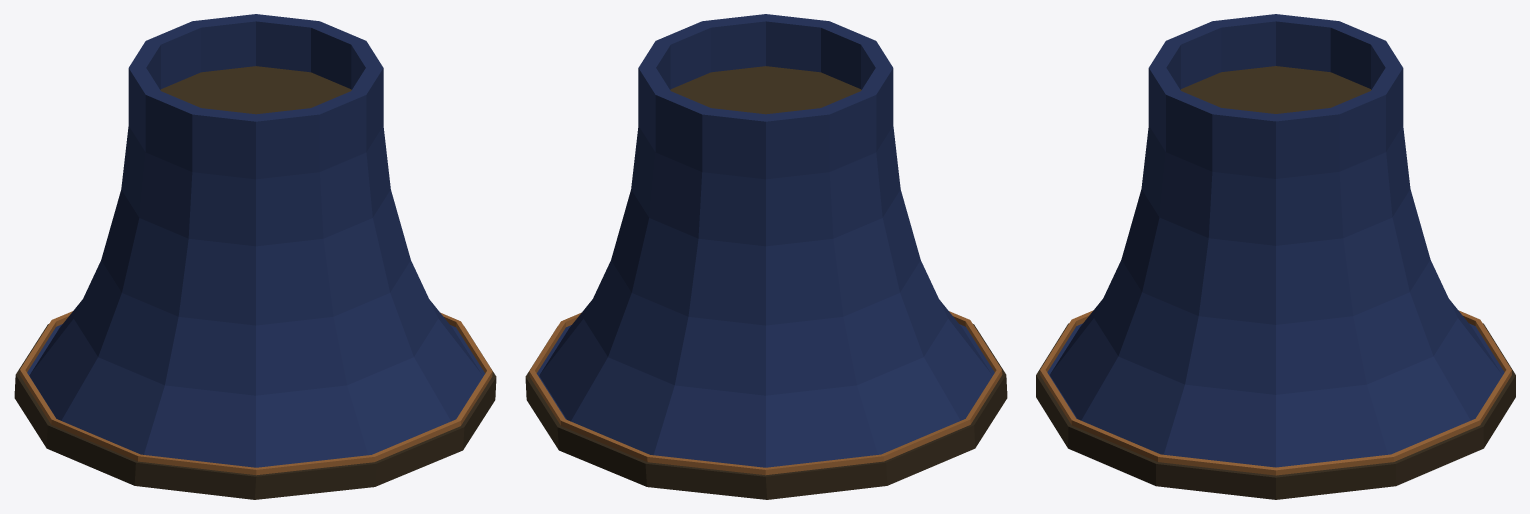
File: Industrial Building_1.fbx
3 views of the same model, side by side, from view 1: azimuth 30°, elevation 25°; view 2: azimuth 150°, elevation 25°; view 3: azimuth 270°, elevation 25° (orthographic).
Visible parts, largest first — view 1: Industrial Building_1; view 2: Industrial Building_1; view 3: Industrial Building_1.
Part boxes in pixels (<box>): Industrial Building_1: <box>14,14,496,499</box>; Industrial Building_1: <box>525,14,1007,499</box>; Industrial Building_1: <box>1036,14,1515,499</box>.
Size of the model in its own units: 878 by 667 by 876.
